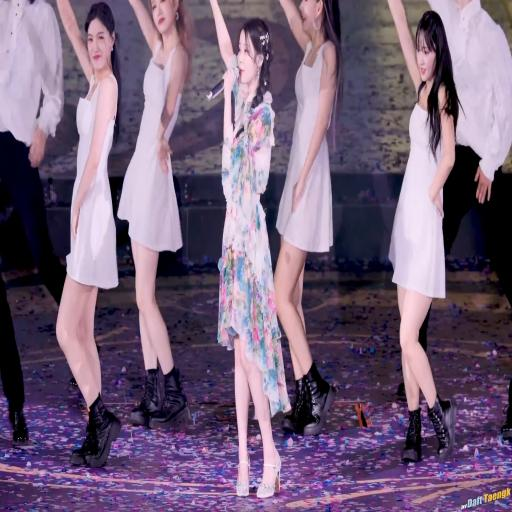IU: (238, 19, 273, 85)
